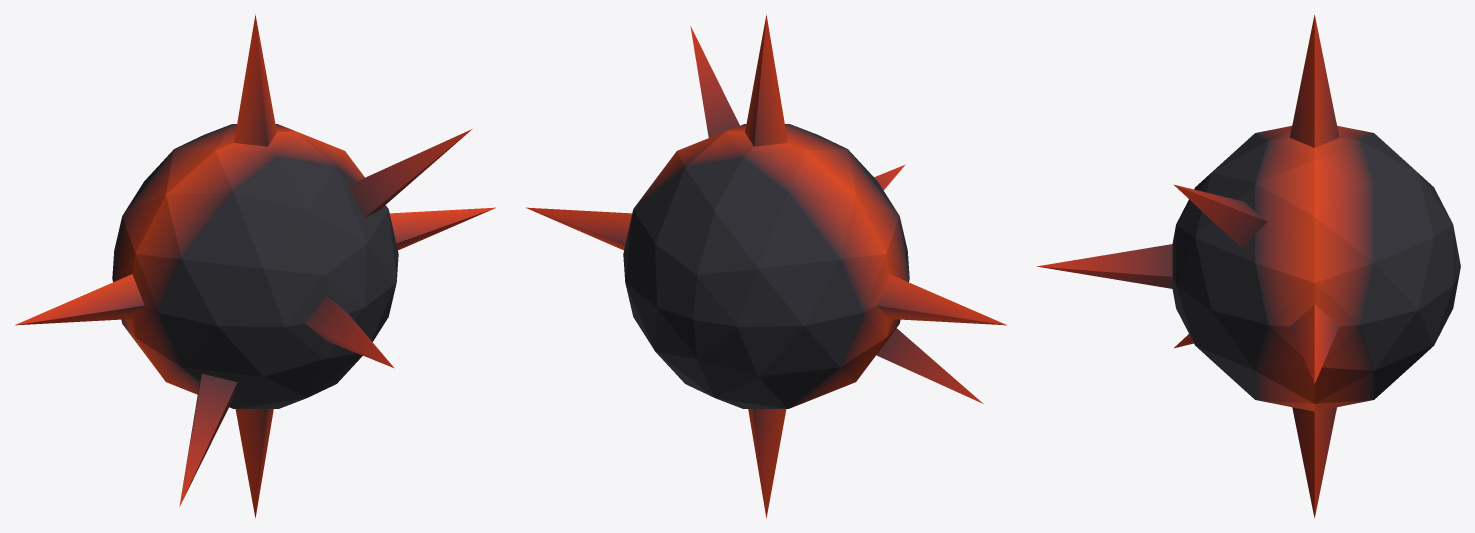
The model's file is mine.obj.
3 renders of one model, left to right at view 1: azimuth 30°, elevation 25°; view 2: azimuth 150°, elevation 25°; view 3: azimuth 270°, elevation 25°, orthographic.
Parts seen in each view (by area): view 1: mine; view 2: mine; view 3: mine.
Boxes of the visible parts, x1=… form: mine: x1=15, y1=14, x2=495, y2=518; mine: x1=526, y1=14, x2=1006, y2=518; mine: x1=1036, y1=15, x2=1460, y2=517.
Size of the model in its own units: 1.6 by 1.6 by 1.22.
